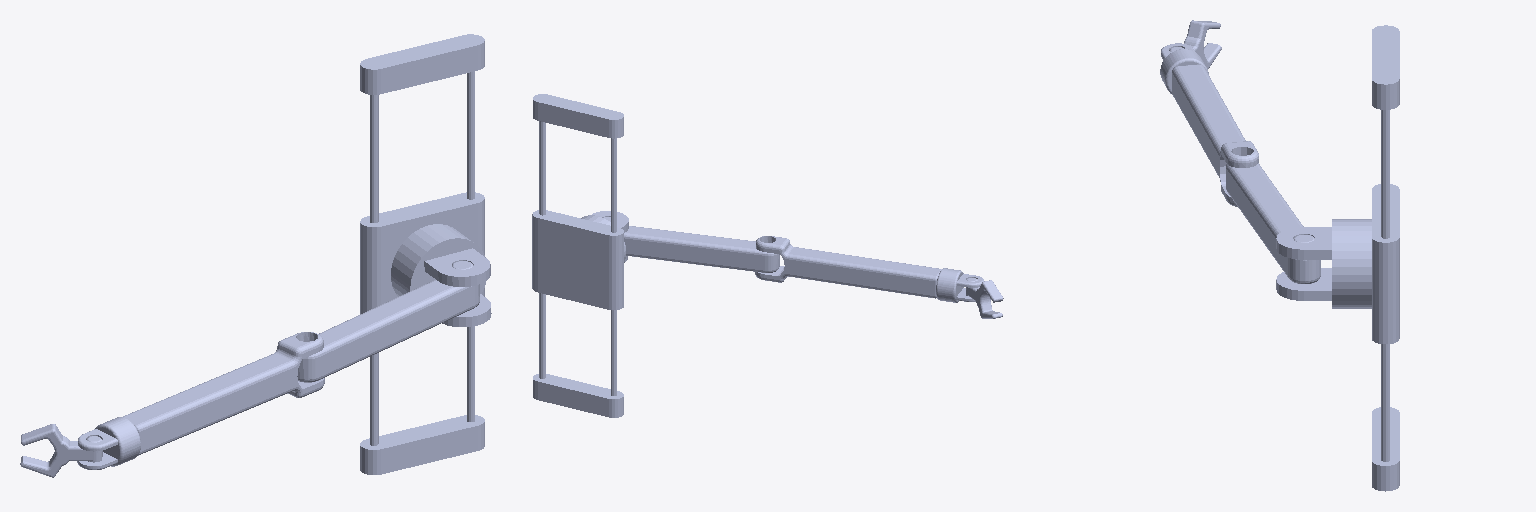
The robot description file, URDF, robot "roverarm":
<?xml version="1.0" encoding="utf-8"?>
<!-- This URDF was automatically created by SolidWorks to URDF Exporter! Originally created by [author] ([email redacted]) 
     Commit Version: 1.6.0-4-g7f85cfe  Build Version: 1.6.7995.38578
     For more information, please see http://wiki.ros.org/sw_urdf_exporter -->
<robot
  name="roverarm">
  <link name= "world"/>
  <joint name="joint0" type="fixed">
  <parent link ="world"/>
  <child link="base_link"/>
  <origin
        xyz="0 0 0"
        rpy="0 0 0" />
  </joint>
     
  <link
    name="base_link">
    <inertial>
      <origin
        xyz="-0.046 0.24086 -0.0125"
        rpy="0 0 0" />
      <mass
        value="0.18473" />
      <inertia
        ixx="0.0005513"
        ixy="-9.4867E-22"
        ixz="1.9005E-22"
        iyy="0.00017469"
        iyz="-2.8508E-22"
        izz="0.00071077" />
    </inertial>
    <visual>
      <origin
        xyz="0 0 0"
        rpy="0 0 0" />
      <geometry>
        <mesh
          filename="package://roverarm/meshes/base_link.STL" />
      </geometry>
      <material
        name="">
        <color
          rgba="0.79216 0.81961 0.93333 1" />
      </material>
    </visual>
    <collision>
      <origin
        xyz="0 0 0"
        rpy="0 0 0" />
      <geometry>
        <mesh
          filename="package://roverarm/meshes/base_link.STL" />
      </geometry>
    </collision>
  </link>
  <link
    name="link1">
    <inertial>
      <origin
        xyz="0.05 0.05 0.003173"
        rpy="0 0 0" />
      <mass
        value="0.32673" />
      <inertia
        ixx="0.00028758"
        ixy="-2.3976E-20"
        ixz="-1.8502E-21"
        iyy="0.00038055"
        iyz="-1.1321E-20"
        izz="0.00058224" />
    </inertial>
    <visual>
      <origin
        xyz="0 0 0"
        rpy="0 0 0" />
      <geometry>
        <mesh
          filename="package://roverarm/meshes/link1.STL" />
      </geometry>
      <material
        name="">
        <color
          rgba="0.79216 0.81961 0.93333 1" />
      </material>
    </visual>
    <collision>
      <origin
        xyz="0 0 0"
        rpy="0 0 0" />
      <geometry>
        <mesh
          filename="package://roverarm/meshes/link1.STL" />
      </geometry>
    </collision>
  </link>
  <joint
    name="joint1"
    type="prismatic">
    <origin
      xyz="-0.096 0.0125 0.18532"
      rpy="1.5708 0 0" />
    <parent
      link="base_link" />
    <child
      link="link1" />
    <axis
      xyz="0 1 0" />
    <limit
      lower="-0.122"
      upper="0.122"
      effort="0"
      velocity="0" />
  </joint>
  <link
    name="link2">
    <inertial>
      <origin
        xyz="0 0.026674 -1.3878E-17"
        rpy="0 0 0" />
      <mass
        value="0.17658" />
      <inertia
        ixx="0.00014329"
        ixy="1.9539E-20"
        ixz="-1.2494E-20"
        iyy="0.00015698"
        iyz="1.7595E-20"
        izz="0.00015083" />
    </inertial>
    <visual>
      <origin
        xyz="0 0 0"
        rpy="0 0 0" />
      <geometry>
        <mesh
          filename="package://roverarm/meshes/link2.STL" />
      </geometry>
      <material
        name="">
        <color
          rgba="0.79216 0.81961 0.93333 1" />
      </material>
    </visual>
    <collision>
      <origin
        xyz="0 0 0"
        rpy="0 0 0" />
      <geometry>
        <mesh
          filename="package://roverarm/meshes/link2.STL" />
      </geometry>
    </collision>
  </link>
  <joint
    name="joint2"
    type="continuous">
    <origin
      xyz="0.05 0.05 0.0125"
      rpy="1.5708 0 -1.5499" />
    <parent
      link="link1" />
    <child
      link="link2" />
    <axis
      xyz="0 1 0" />
    <limit
      lower="0.0"
      upper="0.14"
      effort="0"
      velocity="0" />
  </joint>
  <link
    name="link3">
    <inertial>
      <origin
        xyz="-0.091903 0 6.9389E-18"
        rpy="0 0 0" />
      <mass
        value="0.19273" />
      <inertia
        ixx="2.9563E-05"
        ixy="1.4158E-19"
        ixz="-7.708E-20"
        iyy="0.00078335"
        iyz="-4.6717E-21"
        izz="0.00078554" />
    </inertial>
    <visual>
      <origin
        xyz="0 0 0"
        rpy="0 0 0" />
      <geometry>
        <mesh
          filename="package://roverarm/meshes/link3.STL" />
      </geometry>
      <material
        name="">
        <color
          rgba="0.79216 0.81961 0.93333 1" />
      </material>
    </visual>
    <collision>
      <origin
        xyz="0 0 0"
        rpy="0 0 0" />
      <geometry>
        <mesh
          filename="package://roverarm/meshes/link3.STL" />
      </geometry>
    </collision>
  </link>
  <joint
    name="joint3"
    type="revolute">
    <origin
      xyz="0 0.06 0"
      rpy="3.1416 1.292 -1.5708" />
    <parent
      link="link2" />
    <child
      link="link3" />
    <axis
      xyz="0 1 0" />
    <limit
      lower="-0.348"
      upper="2.50"
      effort="0"
      velocity="0" />
  </joint>
  <link
    name="link4">
    <inertial>
      <origin
        xyz="0.11697 -1.9429E-16 0"
        rpy="0 0 0" />
      <mass
        value="0.1928" />
      <inertia
        ixx="3.2124E-05"
        ixy="6.9119E-19"
        ixz="-5.2516E-20"
        iyy="0.0008185"
        iyz="-5.7875E-21"
        izz="0.00082316" />
    </inertial>
    <visual>
      <origin
        xyz="0 0 0"
        rpy="0 0 0" />
      <geometry>
        <mesh
          filename="package://roverarm/meshes/link4.STL" />
      </geometry>
      <material
        name="">
        <color
          rgba="0.79216 0.81961 0.93333 1" />
      </material>
    </visual>
    <collision>
      <origin
        xyz="0 0 0"
        rpy="0 0 0" />
      <geometry>
        <mesh
          filename="package://roverarm/meshes/link4.STL" />
      </geometry>
    </collision>
  </link>
  <joint
    name="joint4"
    type="revolute">
    <origin
      xyz="-0.2 0 0"
      rpy="0 -0.94605 0" />
    <parent
      link="link3" />
    <child
      link="link4" />
    <axis
      xyz="0 1 0" />
    <limit
      lower="-4.00"
      upper="-0.501"
      effort="0"
      velocity="0" />
  </joint>
  <link
    name="link5">
    <inertial>
      <origin
        xyz="5.3241E-10 0.038352 -2.0899E-10"
        rpy="0 0 0" />
      <mass
        value="0.030871" />
      <inertia
        ixx="8.2333E-06"
        ixy="-2.0377E-13"
        ixz="-4.6596E-12"
        iyy="6.938E-06"
        iyz="9.5824E-14"
        izz="8.3622E-06" />
    </inertial>
    <visual>
      <origin
        xyz="0 0 0"
        rpy="0 0 0" />
      <geometry>
        <mesh
          filename="package://roverarm/meshes/link5.STL" />
      </geometry>
      <material
        name="">
        <color
          rgba="0.79216 0.81961 0.93333 1" />
      </material>
    </visual>
    <collision>
      <origin
        xyz="0 0 0"
        rpy="0 0 0" />
      <geometry>
        <mesh
          filename="package://roverarm/meshes/link5.STL" />
      </geometry>
    </collision>
  </link>
  <joint
    name="joint5"
    type="continuous">
    <origin
      xyz="0.19968 0 0"
      rpy="0 -0.045036 -1.5708" />
    <parent
      link="link4" />
    <child
      link="link5" />
    <axis
      xyz="0 1 0" />
  </joint>
  <link
    name="ee">
    <inertial>
      <origin
        xyz="0.026987 -1.0798E-09 -0.00015055"
        rpy="0 0 0" />
      <mass
        value="0.02065" />
      <inertia
        ixx="2.9371E-06"
        ixy="-9.4445E-16"
        ixz="7.9534E-08"
        iyy="1.0144E-05"
        iyz="-2.8164E-12"
        izz="7.9134E-06" />
    </inertial>
    <visual>
      <origin
        xyz="0 0 0"
        rpy="0 0 0" />
      <geometry>
        <mesh
          filename="package://roverarm/meshes/ee.STL" />
      </geometry>
      <material
        name="">
        <color
          rgba="0.79216 0.81961 0.93333 1" />
      </material>
    </visual>
    <collision>
      <origin
        xyz="0 0 0"
        rpy="0 0 0" />
      <geometry>
        <mesh
          filename="package://roverarm/meshes/ee.STL" />
      </geometry>
    </collision>
  </link>
  <joint
    name="joint6"
    type="revolute">
    <origin
      xyz="0 0.060321 0"
      rpy="-1.5708 -0.75359 1.5708" />
    <parent
      link="link5" />
    <child
      link="ee" />
    <axis
      xyz="0 0 1" />
    <limit
      lower="-0.772"
      upper="2.25"
      effort="0"
      velocity="0" />
  </joint>

<!-- ros2_Control -->
 <!-- <ros2_Control name="GazeboSymSystem" type = "system">
  

 </ros2_Control> -->

    <!-- gazebo pluggin -->
<gazebo>
  <plugin name="gazebo_ros_control" filename="libgazebo_ros_control.so">
    <robotNamespace>/</robotNamespace>
    <robotSimType>gazebo_ros_control/DefaultRobotHWSim</robotSimType>
  </plugin>
</gazebo>


<transmission name="trans1">
  <type>transmission_interface/EffortJointInterface</type>
  <joint name="joint1">
    <hardwareInterface>hardware_interface/EffortJointInterface</hardwareInterface>
  </joint>
  <actuator name="motor1">
    <mechanicalReduction>10</mechanicalReduction>
    <hardwareInterface>hardware_interface/EffortJointInterface</hardwareInterface>
  </actuator>
</transmission>

<transmission name="trans2">
  <type>transmission_interface/EffortJointInterface</type>
  <joint name="joint2">
    <hardwareInterface>hardware_interface/EffortJointInterface</hardwareInterface>
  </joint>
  <actuator name="motor2">
    <mechanicalReduction>10</mechanicalReduction>
    <hardwareInterface>hardware_interface/EffortJointInterface</hardwareInterface>
  </actuator>
</transmission>

<transmission name="trans3">
  <type>transmission_interface/EffortJointInterface</type>
  <joint name="joint3">
    <hardwareInterface>hardware_interface/EffortJointInterface</hardwareInterface>
  </joint>
  <actuator name="motor3">
    <mechanicalReduction>10</mechanicalReduction>
    <hardwareInterface>hardware_interface/EffortJointInterface</hardwareInterface>
  </actuator>
</transmission>

<transmission name="trans4">
  <type>transmission_interface/EffortJointInterface</type>
  <joint name="joint4">
    <hardwareInterface>hardware_interface/EffortJointInterface</hardwareInterface>
  </joint>
  <actuator name="motor4">
    <mechanicalReduction>10</mechanicalReduction>
    <hardwareInterface>hardware_interface/EffortJointInterface</hardwareInterface>
  </actuator>
</transmission>

<transmission name="trans5">
  <type>transmission_interface/EffortJointInterface</type>
  <joint name="joint5">
    <hardwareInterface>hardware_interface/EffortJointInterface</hardwareInterface>
  </joint>
  <actuator name="motor5">
    <mechanicalReduction>10</mechanicalReduction>
    <hardwareInterface>hardware_interface/EffortJointInterface</hardwareInterface>
  </actuator>
</transmission>

<transmission name="trans6">
  <type>transmission_interface/EffortJointInterface</type>
  <joint name="joint6">
    <hardwareInterface>hardware_interface/EffortJointInterface</hardwareInterface>
  </joint>
  <actuator name="motor6">
    <mechanicalReduction>10</mechanicalReduction>
    <hardwareInterface>hardware_interface/EffortJointInterface</hardwareInterface>
  </actuator>
</transmission>



</robot>

--- Facts derived from the render (not from the file) ---
The picture shows the robot from 3 angles, left to right: view 1: azimuth 30°, elevation 25°; view 2: azimuth 150°, elevation 25°; view 3: azimuth 270°, elevation 25°; orthographic projection.
Model roverarm with 8 links and 7 joints (3 revolute, 2 continuous, 1 prismatic, 1 fixed), rooted at world, posed all joints at 0 but 1 set to mid-range because 0 is outside their limits (joint4 = -2.25).
Links seen in each view (by area): view 1: base_link, link4, link3, link1, link2, link5, ee; view 2: link1, base_link, link4, link3, link5, ee; view 3: link2, base_link, link4, link3, link1, ee, link5.
Boxes of the visible links, x1=… form: base_link: x1=360, y1=34, x2=484, y2=474; link4: x1=123, y1=332, x2=324, y2=455; link3: x1=297, y1=261, x2=479, y2=382; link1: x1=360, y1=192, x2=484, y2=313; link2: x1=391, y1=224, x2=491, y2=326; link5: x1=77, y1=417, x2=140, y2=469; ee: x1=20, y1=424, x2=102, y2=477; link1: x1=532, y1=210, x2=623, y2=309; base_link: x1=533, y1=94, x2=623, y2=417; link4: x1=755, y1=236, x2=941, y2=298; link3: x1=604, y1=217, x2=779, y2=272; link5: x1=936, y1=268, x2=983, y2=302; ee: x1=966, y1=278, x2=1003, y2=318; link2: x1=1276, y1=219, x2=1371, y2=308; base_link: x1=1372, y1=25, x2=1399, y2=491; link4: x1=1172, y1=64, x2=1258, y2=206; link3: x1=1226, y1=163, x2=1320, y2=283; link1: x1=1372, y1=184, x2=1399, y2=343; ee: x1=1169, y1=20, x2=1221, y2=68; link5: x1=1160, y1=43, x2=1208, y2=93.
Size in the robot's own frame: 0.5679 by 0.2134 by 0.4 metres.
Meshes: 7 distinct files referenced, 7 mesh visuals loaded (7 binary STL).